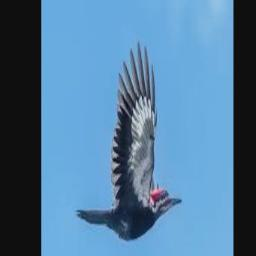Woodpecker: (75, 41, 182, 240)
